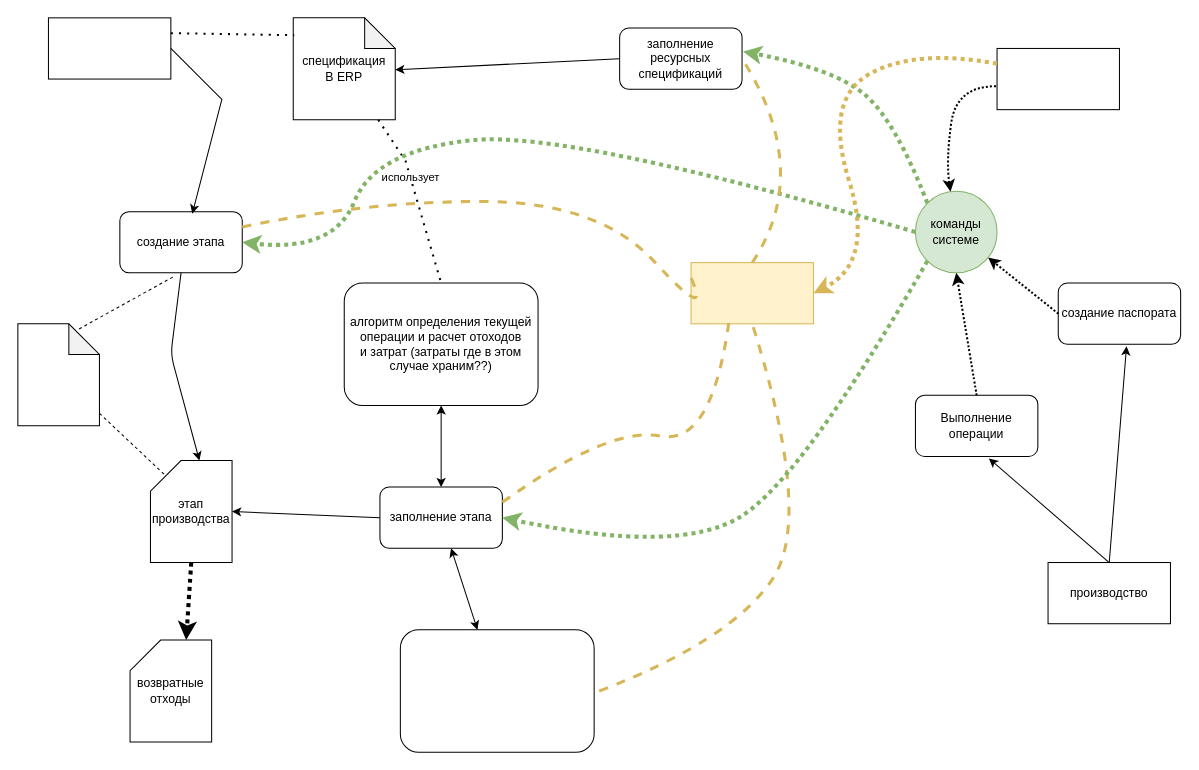
Image size: 1199x770. Some labels were removed from this diagram. Here are the shapes that lost their labels. From the top down, the centre of each, then its label:
point (109, 48): ERP
point (1057, 78): АИС первоисточник ТЭК
point (751, 293): БУФЕР ОБМЕНА ДАННЫМИ
point (58, 374): паспорт ERP
point (496, 690): алгоритм разделения этапов по завершения. месяца или для расчета..
